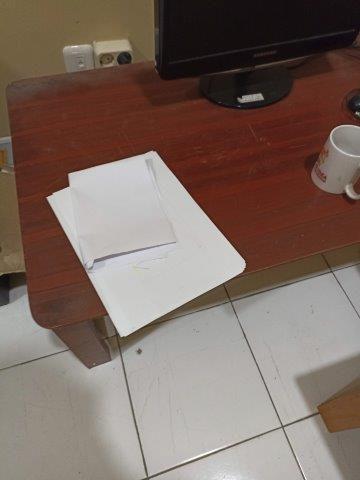kertas: (46, 150, 247, 337)
